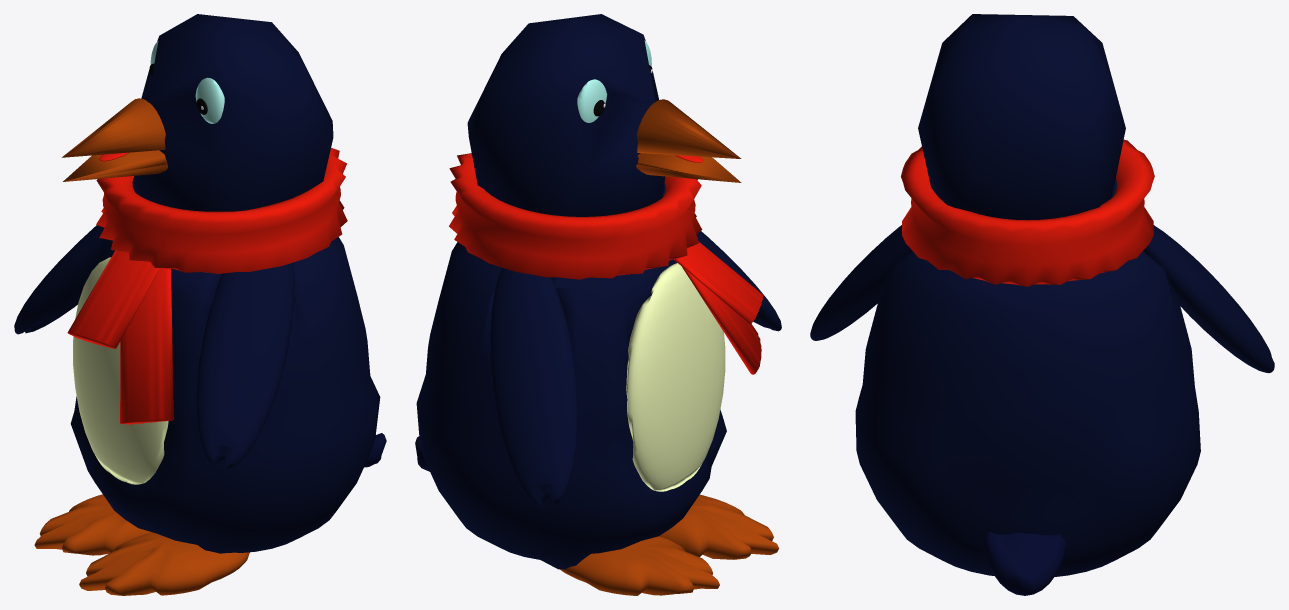
Rendered from piongwin_2 (1).fbx.
The picture shows the model from 3 angles, left to right: view 1: azimuth 30°, elevation 25°; view 2: azimuth 150°, elevation 25°; view 3: azimuth 270°, elevation 25°; orthographic projection. The views are drawn at different scales.
Visible parts, largest first — view 1: Sphere.017, Icosphere.001, Torus.001, Sphere.015, Sphere.001, Sphere.012, Cylinder.003, Cylinder.002, Sphere.013, Sphere.016, Cone.003, Cone.002 (+1 smaller); view 2: Sphere.017, Icosphere.001, Sphere.001, Torus.001, Sphere.016, Sphere.013, Sphere.012, Cone.003, Cylinder.002, Cylinder.003, Cone.002, Sphere.015 (+1 smaller); view 3: Sphere.017, Icosphere.001, Torus.001, Sphere.016, Sphere.015, Sphere.014.
Boxes of the visible parts, x1=… form: Sphere.017: x1=70, y1=237, x2=380, y2=553; Icosphere.001: x1=135, y1=14, x2=333, y2=211; Torus.001: x1=96, y1=147, x2=347, y2=273; Sphere.015: x1=196, y1=262, x2=294, y2=469; Sphere.001: x1=73, y1=257, x2=168, y2=484; Sphere.012: x1=79, y1=532, x2=249, y2=595; Cylinder.003: x1=120, y1=251, x2=173, y2=424; Cylinder.002: x1=67, y1=250, x2=159, y2=348; Sphere.013: x1=34, y1=494, x2=151, y2=555; Sphere.016: x1=14, y1=225, x2=104, y2=334; Cone.003: x1=62, y1=98, x2=165, y2=157; Cone.002: x1=63, y1=150, x2=167, y2=181; Sphere.017: x1=416, y1=242, x2=726, y2=569; Icosphere.001: x1=467, y1=14, x2=665, y2=216; Sphere.001: x1=626, y1=263, x2=725, y2=491; Torus.001: x1=449, y1=153, x2=702, y2=279; Sphere.016: x1=490, y1=267, x2=578, y2=507; Sphere.013: x1=560, y1=536, x2=719, y2=595; Sphere.012: x1=659, y1=494, x2=779, y2=559; Cone.003: x1=636, y1=99, x2=741, y2=158; Cylinder.002: x1=674, y1=241, x2=763, y2=324; Cylinder.003: x1=682, y1=267, x2=761, y2=374; Cone.002: x1=636, y1=153, x2=741, y2=182; Sphere.015: x1=696, y1=231, x2=781, y2=331; Sphere.017: x1=855, y1=251, x2=1200, y2=576; Icosphere.001: x1=918, y1=14, x2=1125, y2=220; Torus.001: x1=901, y1=139, x2=1154, y2=286; Sphere.016: x1=1143, y1=225, x2=1274, y2=373; Sphere.015: x1=810, y1=225, x2=912, y2=340; Sphere.014: x1=982, y1=532, x2=1066, y2=595.
Size of the model in its own units: 285 by 427 by 324.
